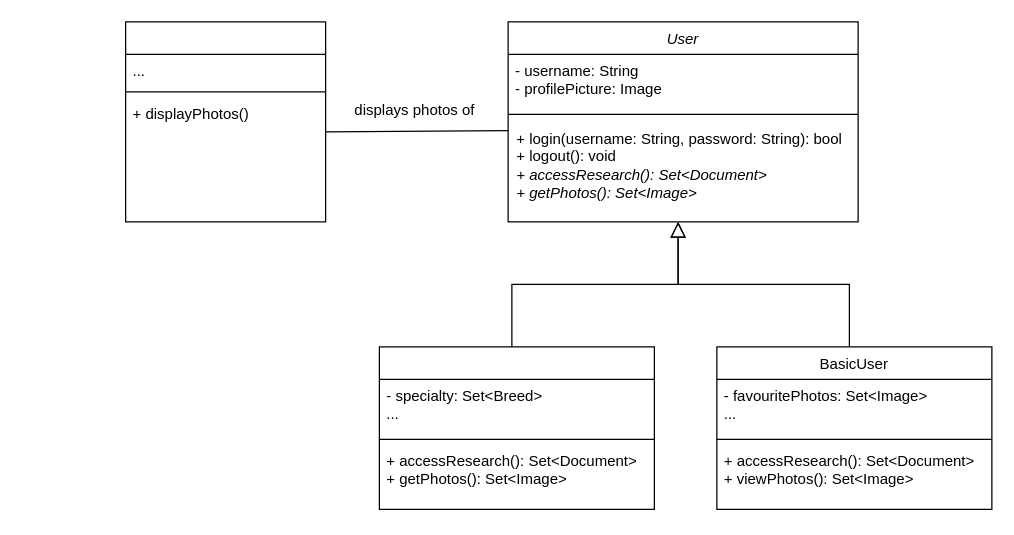
Some shapes in this 1014 by 535 pixel diagram are drawn without their labels. Here are the shapes that lost their labels. From the top down, the box of each, then its label:
(124, 21, 326, 222): PhotoViewer
(378, 346, 654, 509): Penguinologist
